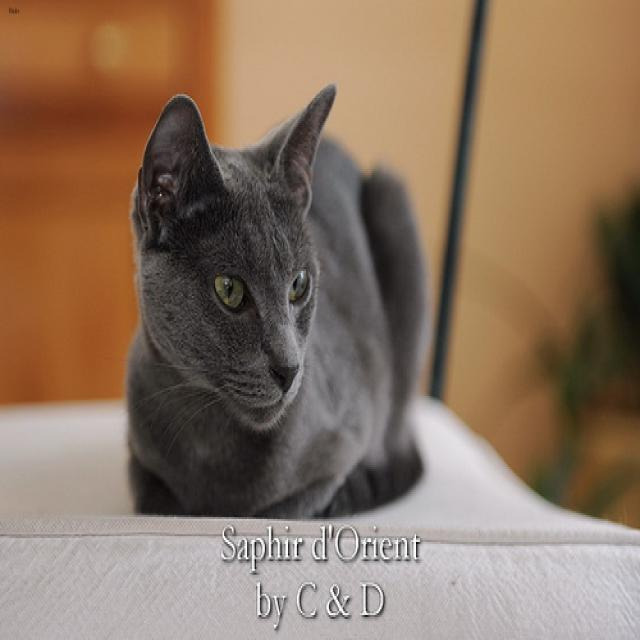Russian_Blue: (132, 79, 339, 433)
